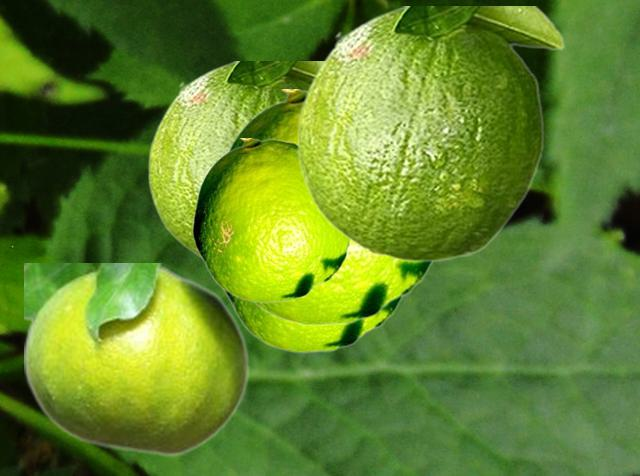dalandan: (296, 6, 564, 261), (224, 89, 435, 325), (24, 263, 249, 456), (147, 61, 321, 259), (192, 138, 350, 302), (220, 288, 405, 352)
